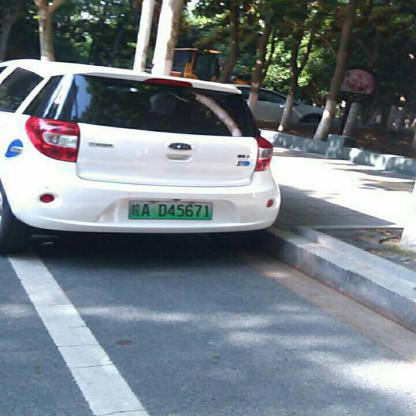lp: (129, 201, 214, 218)
